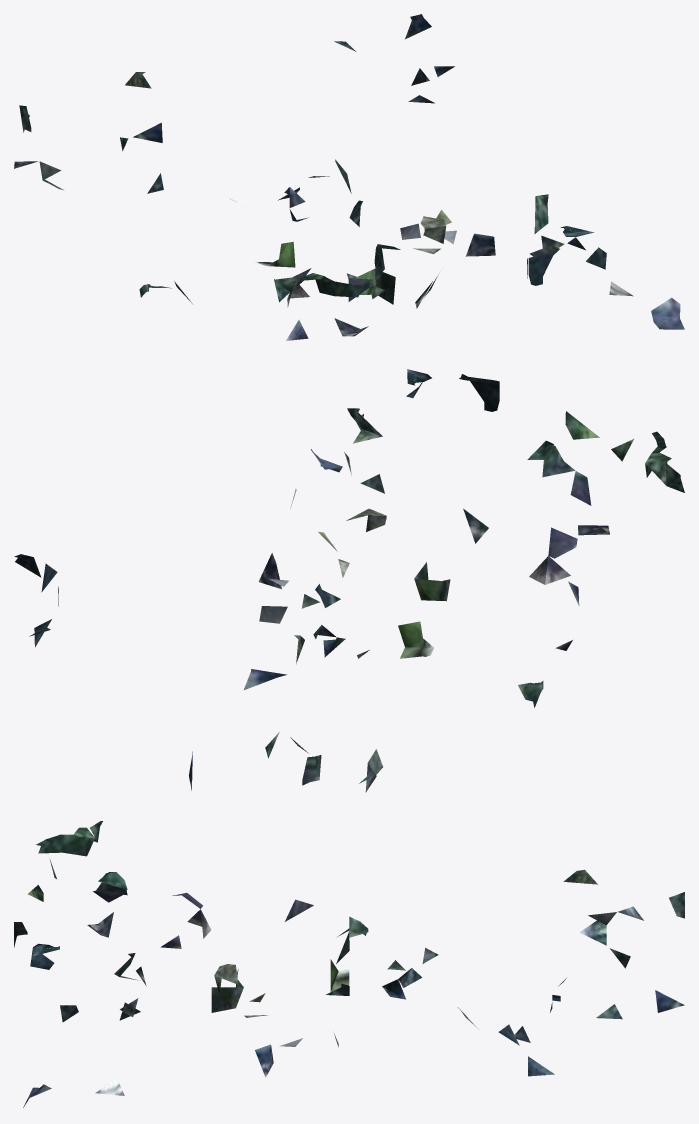
The picture shows the model from 3 angles, top to bottom: view 1: azimuth 30°, elevation 25°; view 2: azimuth 150°, elevation 25°; view 3: azimuth 270°, elevation 25°; orthographic projection. The views are drawn at different scales.
Visible parts, largest first — view 1: 30436272704361537713_1; view 2: 30436272704361537713_1; view 3: 30436272704361537713_1.
Boxes of the visible parts, x1=… form: 30436272704361537713_1: x1=14, y1=14, x2=684, y2=340; 30436272704361537713_1: x1=14, y1=369, x2=684, y2=792; 30436272704361537713_1: x1=14, y1=821, x2=684, y2=1107.
Size of the model in its own units: 25 by 7.4 by 38.26.
Materials: 1 (1 with a texture image).
